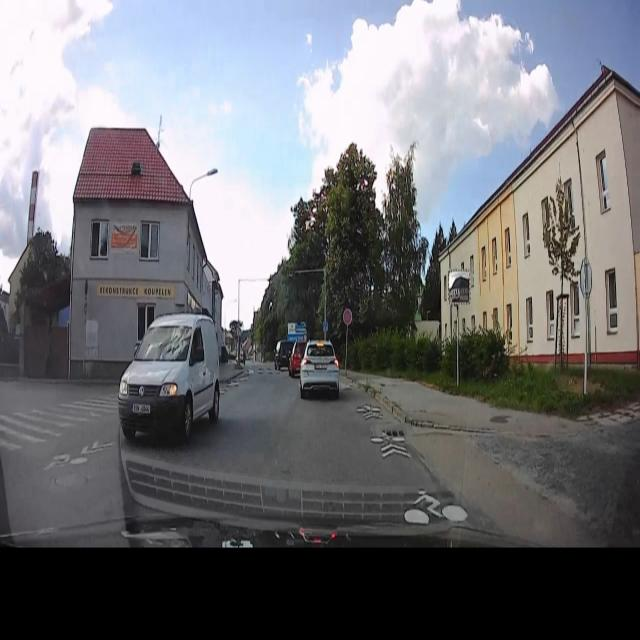Car: (299, 340, 343, 402)
Pedestrian crosswalk: (247, 363, 291, 378), (322, 320, 329, 334)
